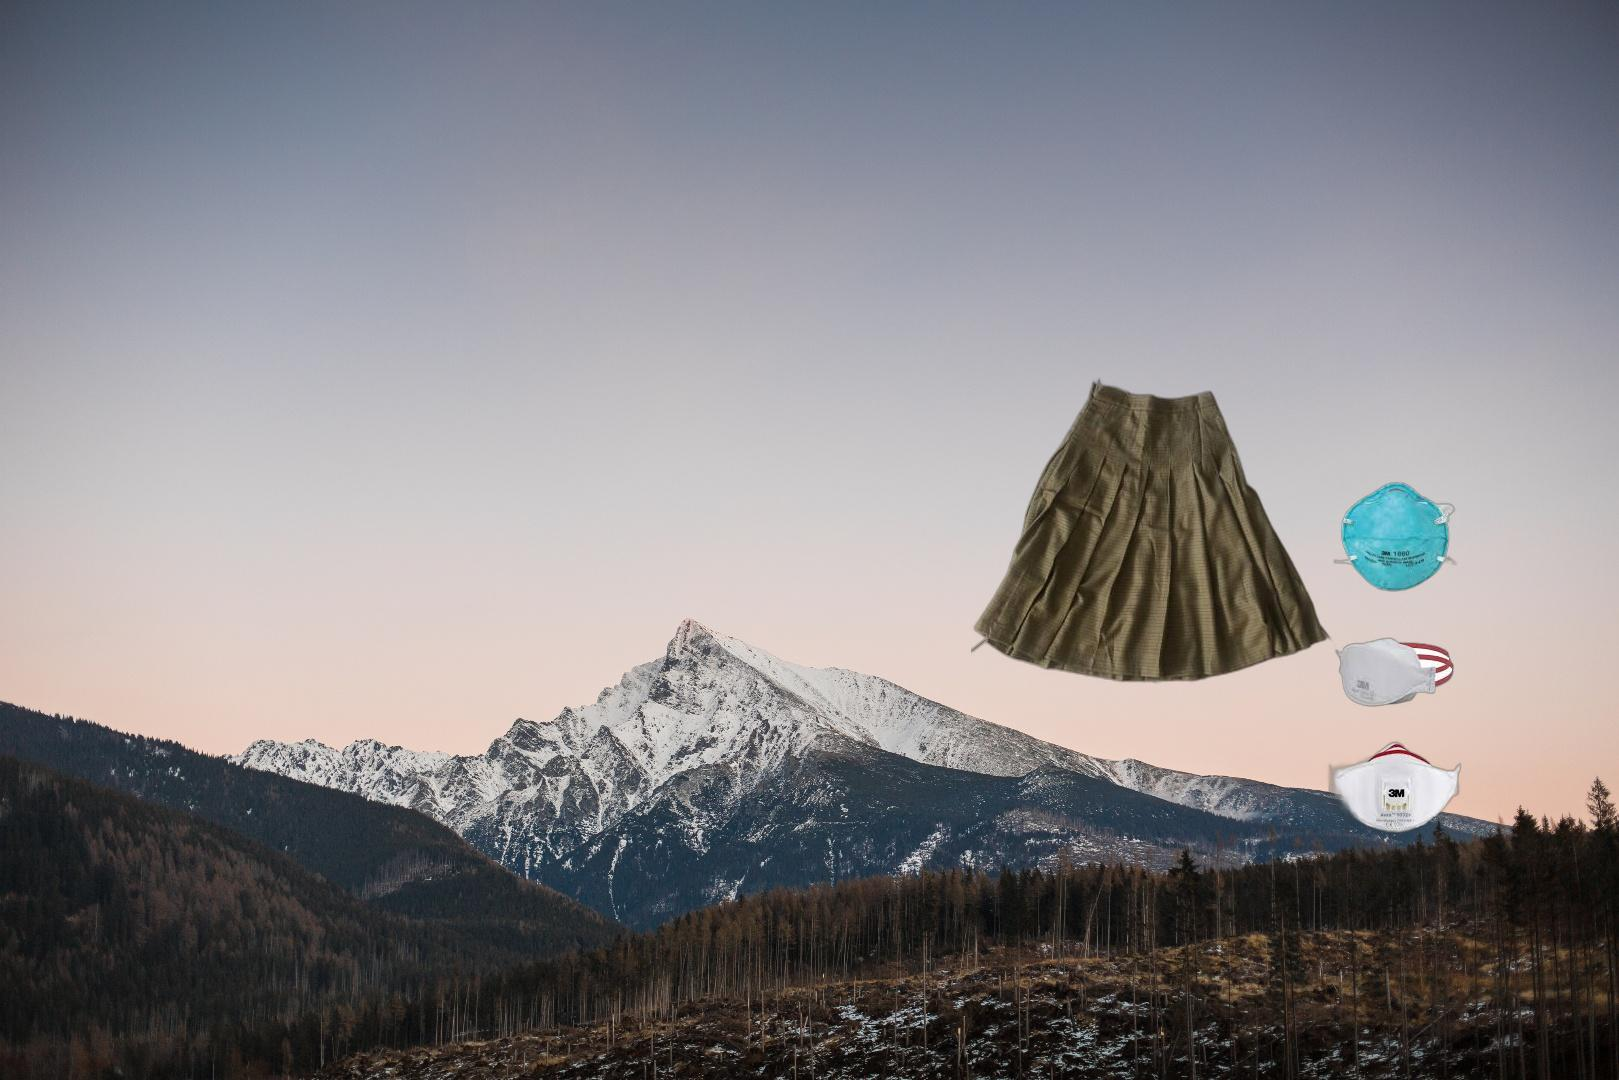clothes: (970, 376, 1334, 686)
trash: (1326, 479, 1463, 834)
